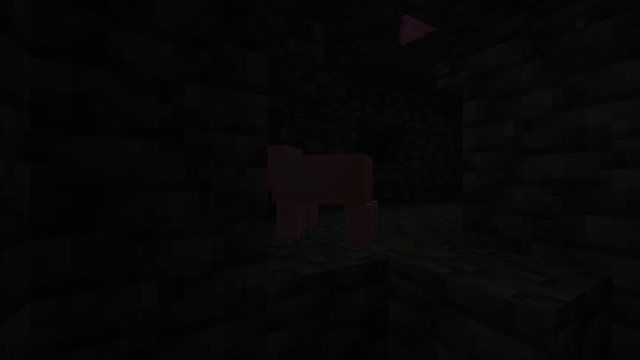cochons: (272, 148, 381, 248)
